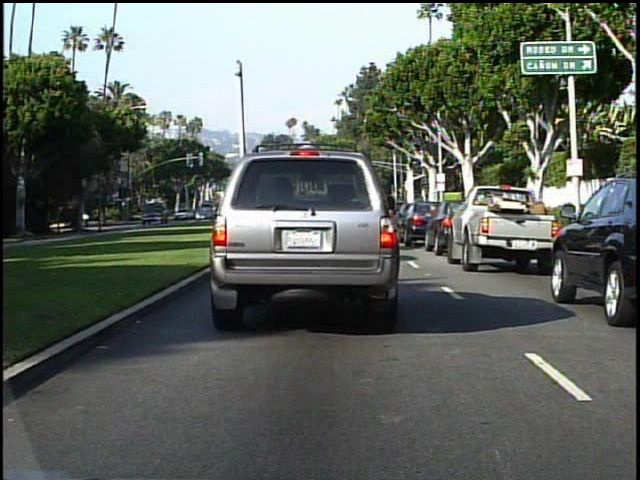person: (83, 209, 92, 230)
